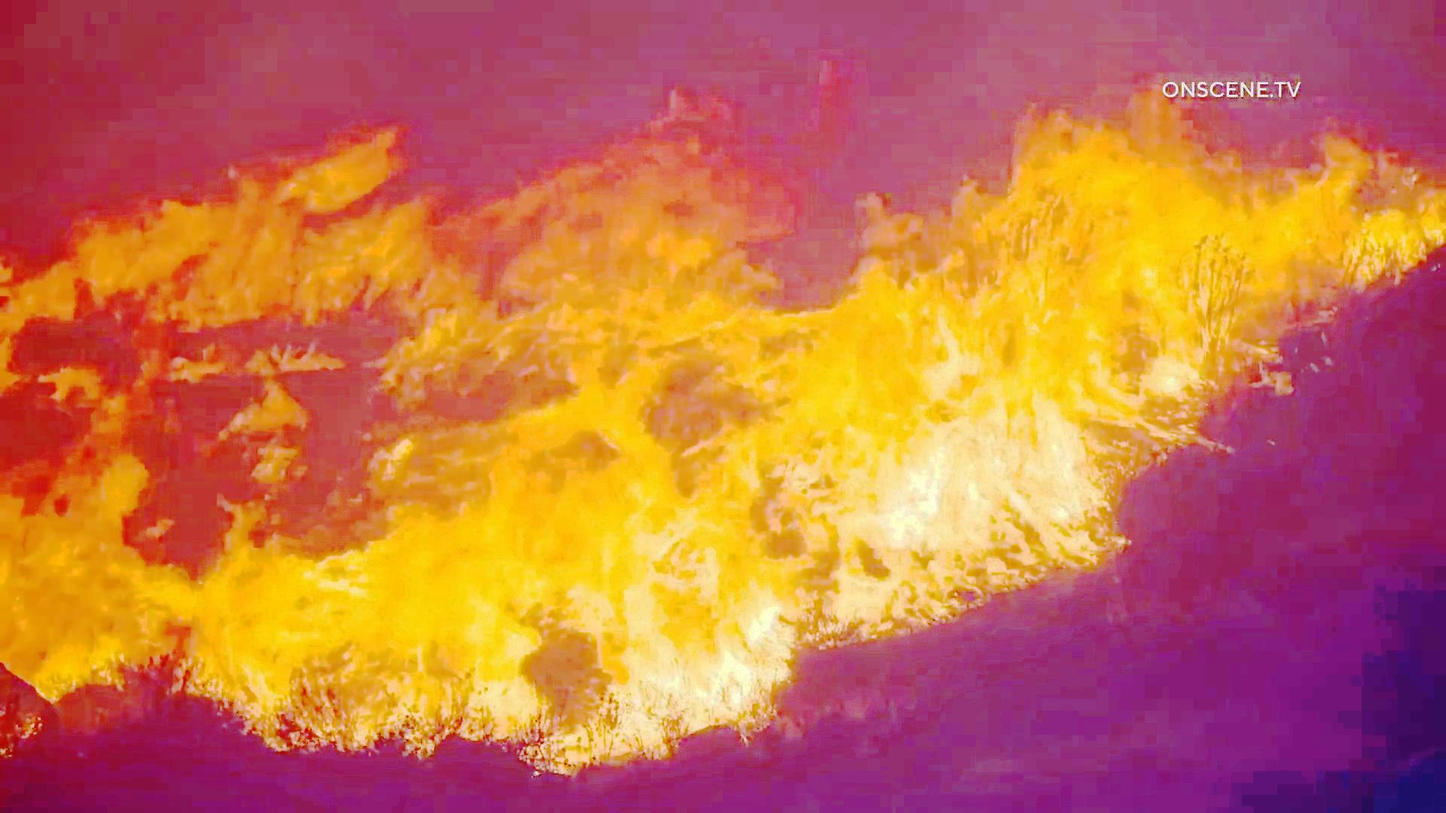fire: (0, 2, 781, 747), (816, 128, 1115, 593), (1111, 94, 1422, 308)
